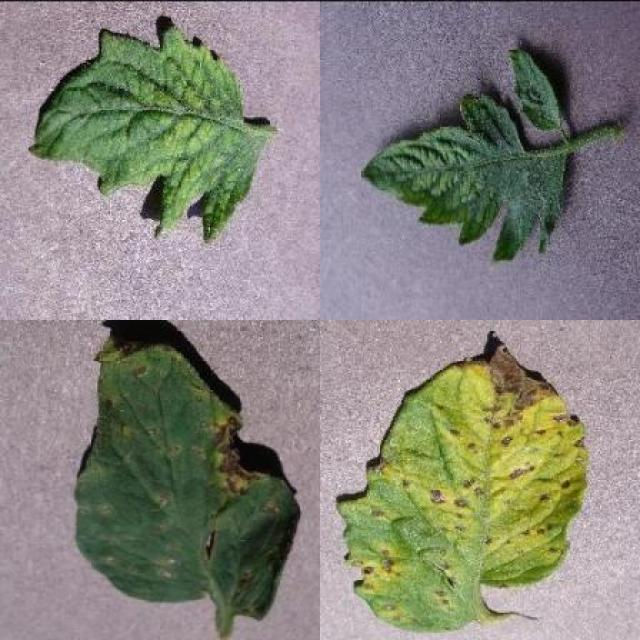Mosaic Virus: (28, 25, 266, 242), (357, 45, 570, 265)
Septoria: (341, 336, 588, 634), (72, 334, 302, 622)
